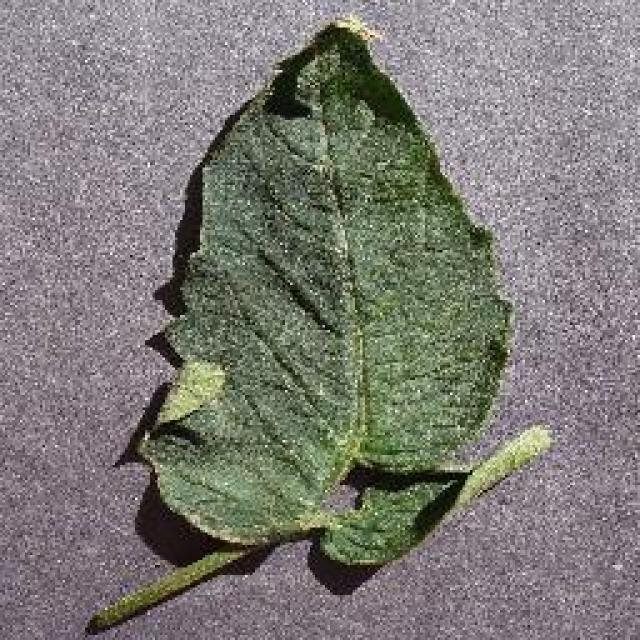Tomato_Healthy: (118, 14, 521, 592)
